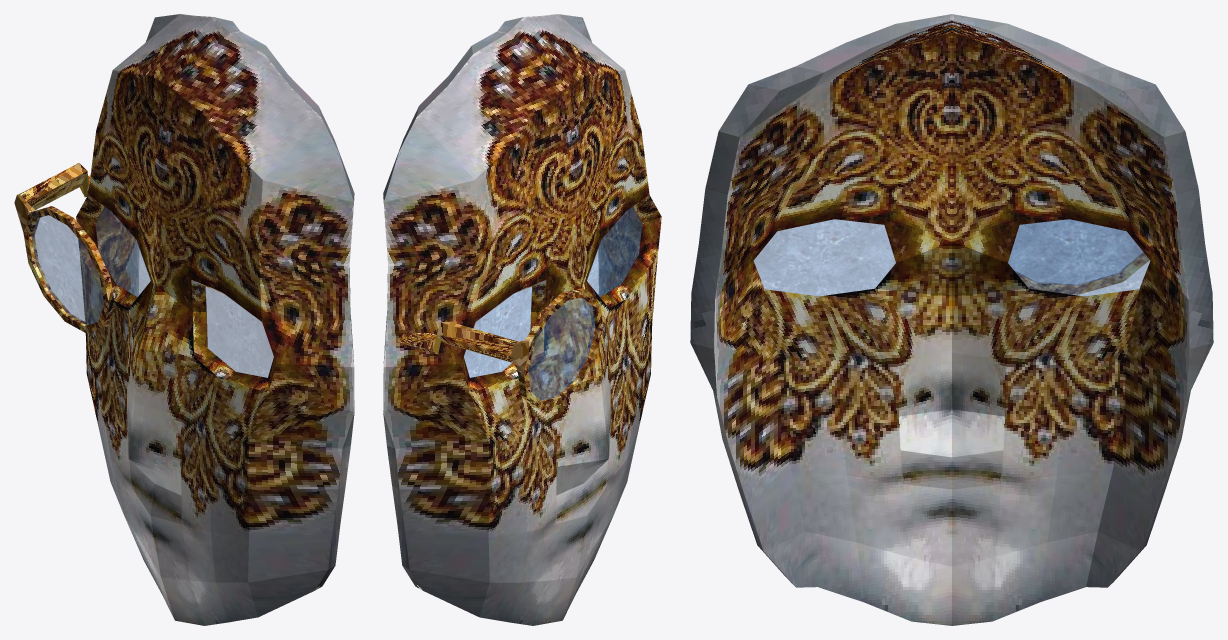
File: mask1.glb
3 views of the same model, side by side, from view 1: azimuth 30°, elevation 25°; view 2: azimuth 150°, elevation 25°; view 3: azimuth 270°, elevation 25° (orthographic). The views are drawn at different scales.
Parts seen in each view (by area): view 1: Cube; view 2: Cube; view 3: Cube.
Boxes of the visible parts, x1,y1,x2,y2 form: Cube: (14, 14, 354, 625); Cube: (383, 14, 661, 625); Cube: (690, 14, 1213, 625).
Bounding box in the file's own units: 0.4234 × 1.63 × 1.21.
2 materials, 2 textured.
